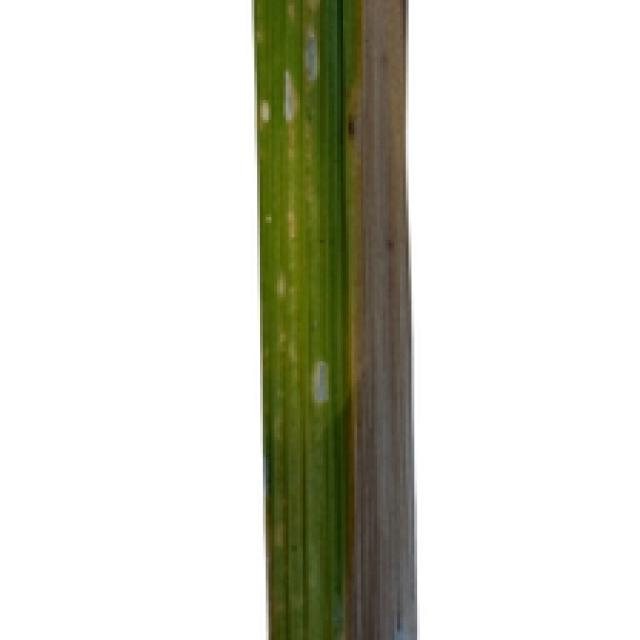Rice___Bacterial_Leaf_Blight: (253, 0, 418, 637)
